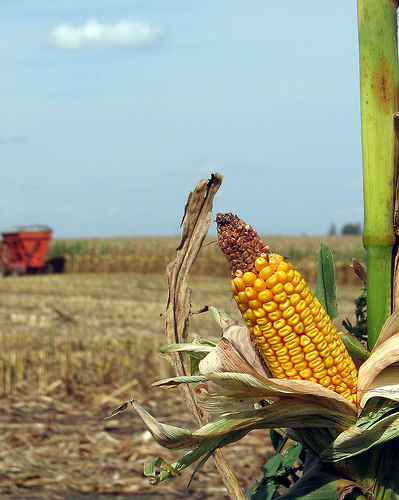corn: (215, 211, 361, 408)
